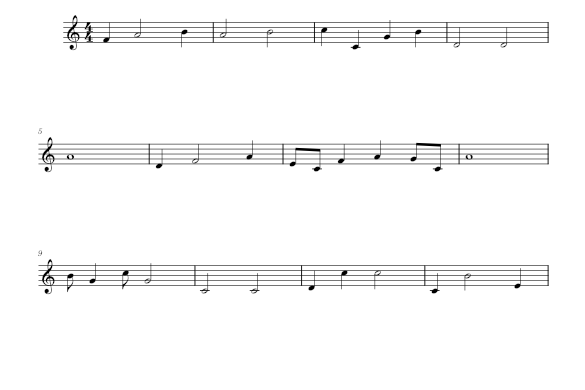Treble Clef: (62, 9, 83, 53), (39, 135, 59, 179), (39, 258, 59, 299)
